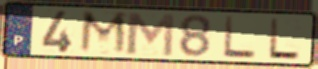4: (40, 8, 77, 55)
8: (177, 13, 214, 59)
L: (221, 14, 258, 61), (266, 16, 302, 61)
M: (124, 10, 177, 58), (77, 9, 130, 57)
